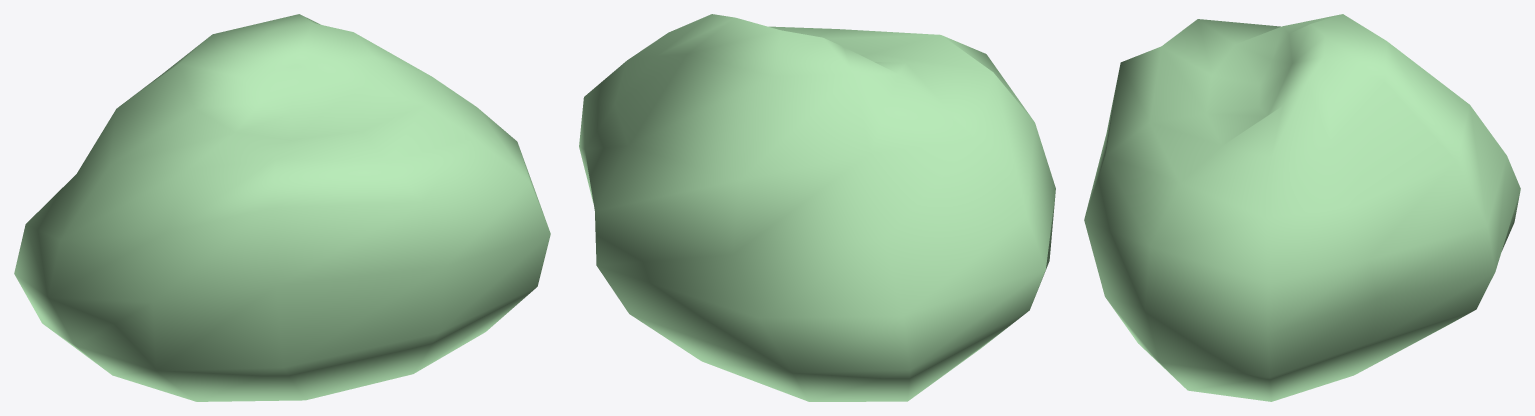
File: Rock2_Small.fbx
3 renders of one model, left to right at view 1: azimuth 30°, elevation 25°; view 2: azimuth 150°, elevation 25°; view 3: azimuth 270°, elevation 25°, orthographic. The views are drawn at different scales.
Visible parts, largest first — view 1: Rock2_Small; view 2: Rock2_Small; view 3: Rock2_Small.
Boxes of the visible parts, left/top/right/bottom form: Rock2_Small: left=14, top=14, right=550, bottom=401; Rock2_Small: left=579, top=14, right=1055, bottom=401; Rock2_Small: left=1084, top=14, right=1520, bottom=401.
Bounding box in the file's own units: 916 × 548 × 748.
